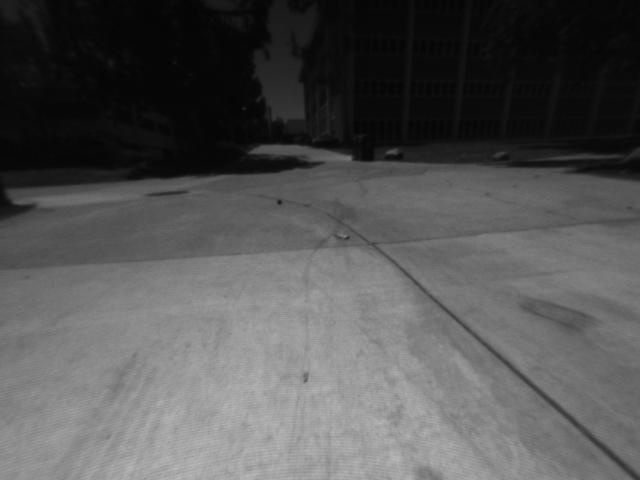dogtoy: (273, 194, 289, 209)
